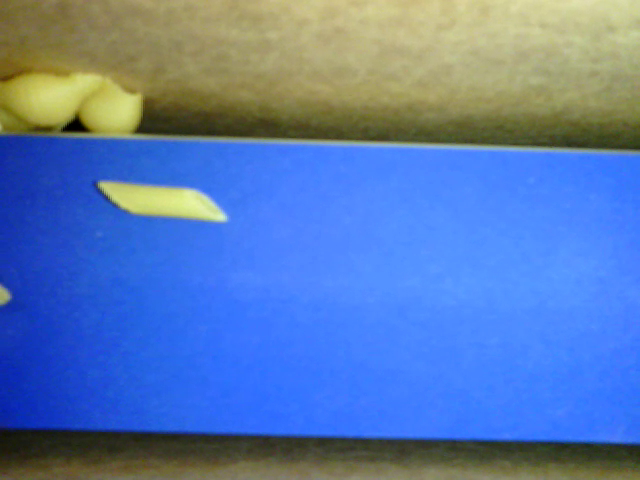penne: (98, 180, 226, 221)
shell: (1, 67, 104, 122), (78, 74, 147, 137), (1, 104, 73, 133)
